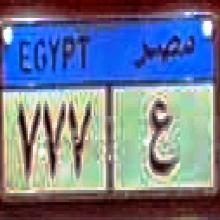7: (15, 99, 40, 179), (68, 101, 92, 173), (42, 101, 65, 176)
ain: (146, 94, 183, 182)
